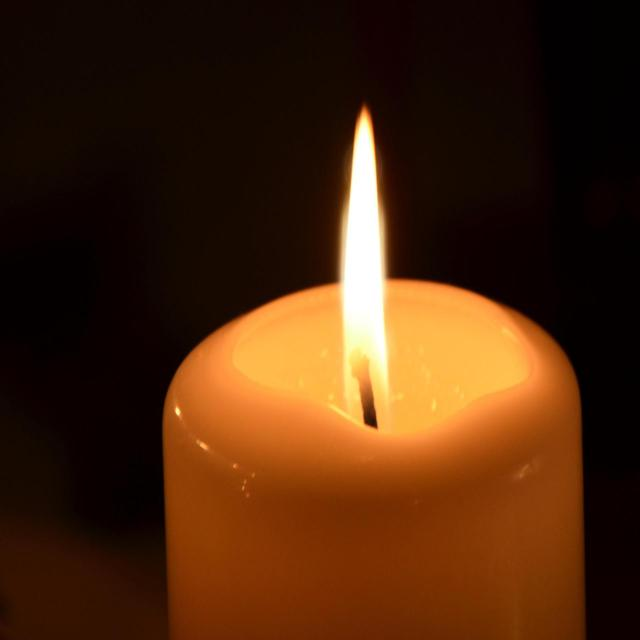Fire_Save: (161, 102, 587, 638)
